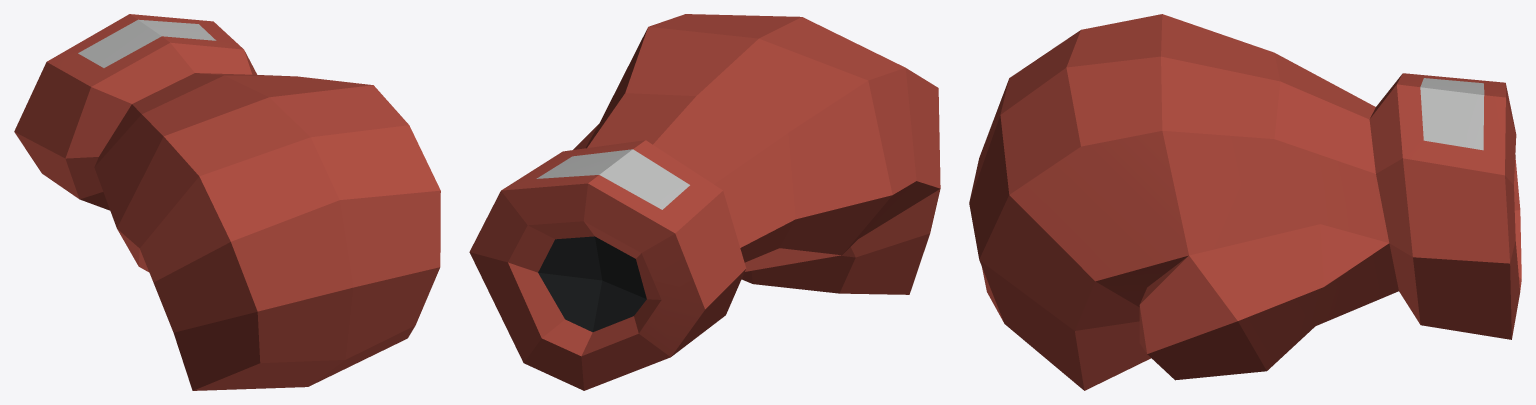
Rendered from SM_Prop_Sport_BoxingGlove_r_01.obj.
3 views of the same model, side by side, from view 1: azimuth 30°, elevation 25°; view 2: azimuth 150°, elevation 25°; view 3: azimuth 270°, elevation 25° (orthographic). The views are drawn at different scales.
Parts seen in each view (by area): view 1: SM_Prop_Sport_BoxingGlove_r_01_0; view 2: SM_Prop_Sport_BoxingGlove_r_01_0; view 3: SM_Prop_Sport_BoxingGlove_r_01_0.
Boxes of the visible parts, left/top/right/bottom form: SM_Prop_Sport_BoxingGlove_r_01_0: left=14, top=14, right=440, bottom=390; SM_Prop_Sport_BoxingGlove_r_01_0: left=469, top=14, right=940, bottom=390; SM_Prop_Sport_BoxingGlove_r_01_0: left=969, top=14, right=1521, bottom=390.
Bounding box in the file's own units: 0.254 × 0.2015 × 0.3389.
1 material, 1 textured.
